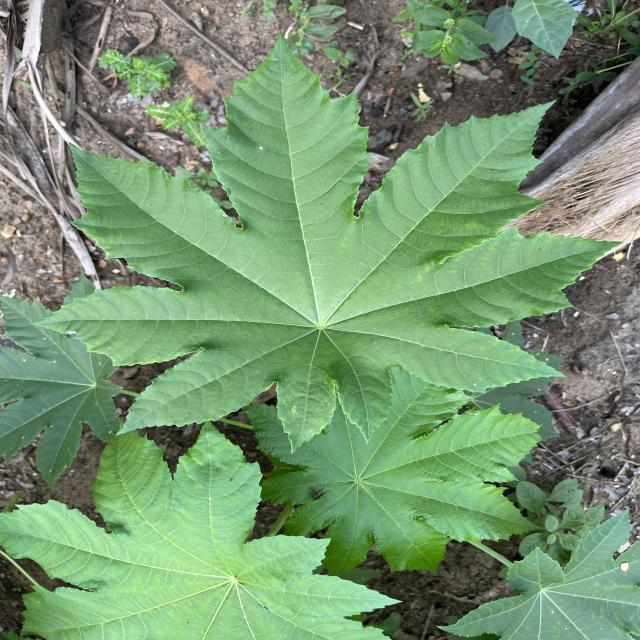Ricinus communis linn: (28, 25, 630, 459), (236, 360, 545, 582)
